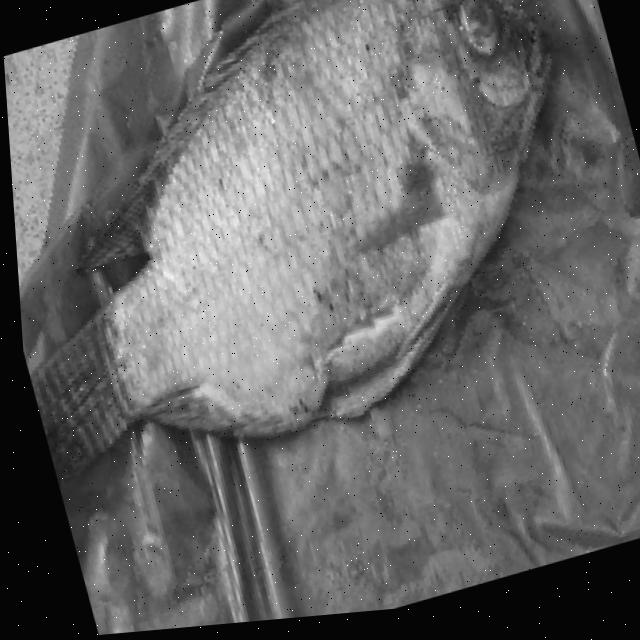Non-Fresh: (114, 0, 618, 399), (432, 0, 514, 80)
